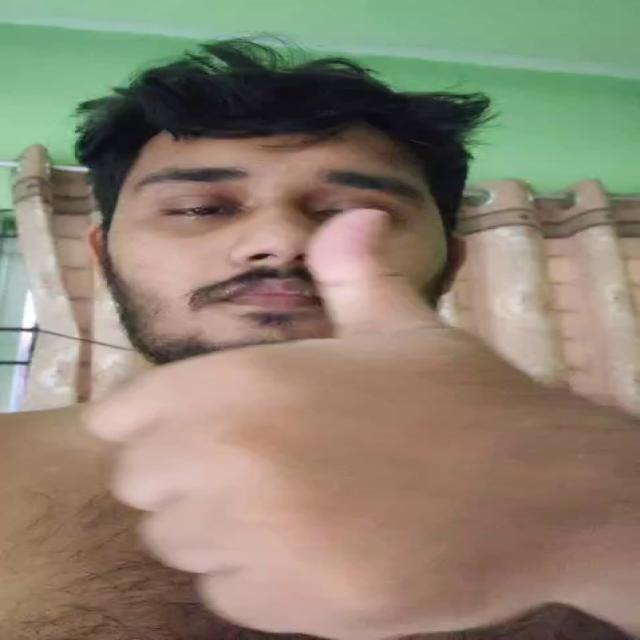Yes: (95, 211, 512, 640)
